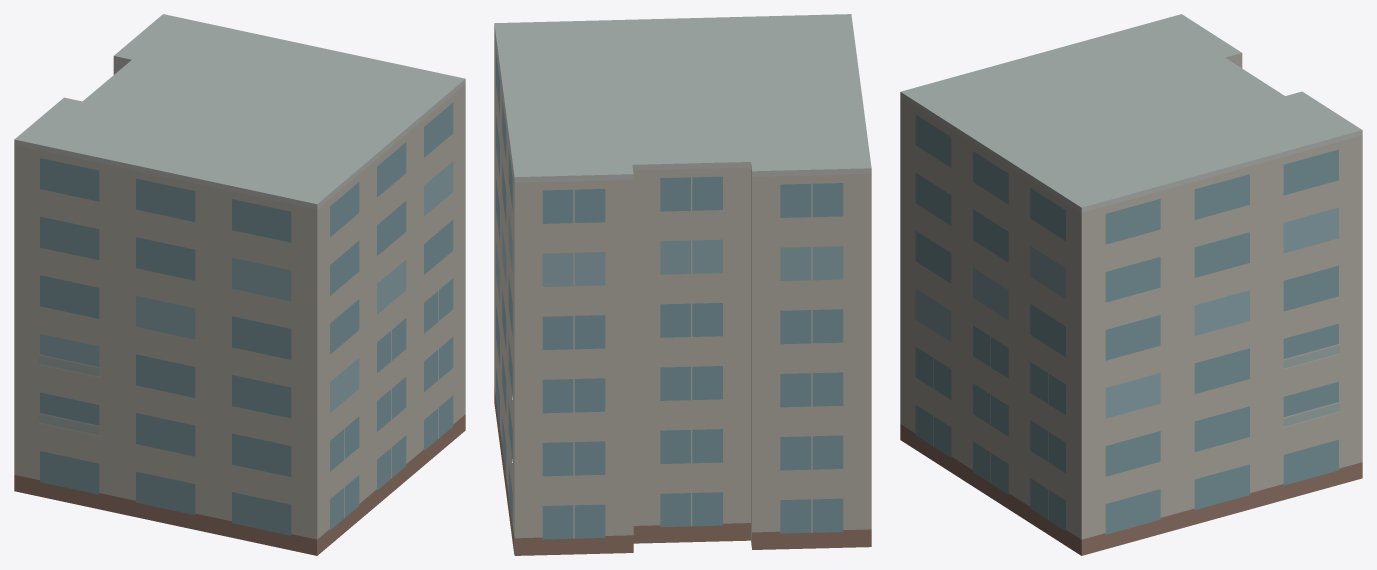
The model's file is survey-upis-32729851.glb.
3 renders of one model, left to right at view 1: azimuth 30°, elevation 25°; view 2: azimuth 150°, elevation 25°; view 3: azimuth 270°, elevation 25°, orthographic. The views are drawn at different scales.
Visible parts, largest first — view 1: survey-upis-32729851.tmp; view 2: survey-upis-32729851.tmp; view 3: survey-upis-32729851.tmp.
Part boxes in pixels (x1,y1,x2,y2): survey-upis-32729851.tmp: (14, 14, 465, 555); survey-upis-32729851.tmp: (494, 14, 871, 555); survey-upis-32729851.tmp: (900, 14, 1362, 555).
Size of the model in its own units: 19.39 by 16.25 by 19.56.
